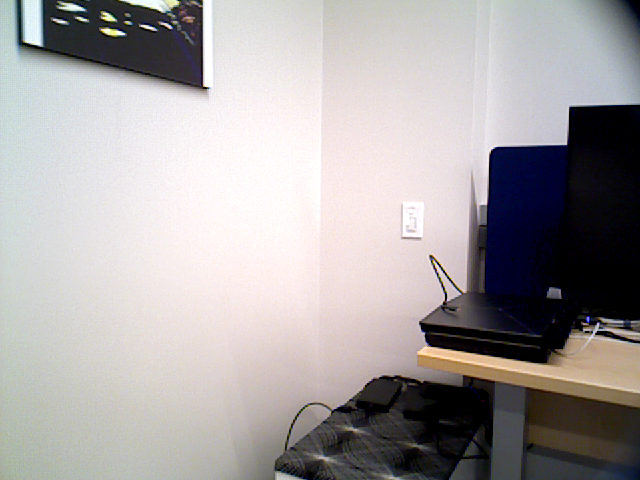painting3: (18, 1, 210, 87)
